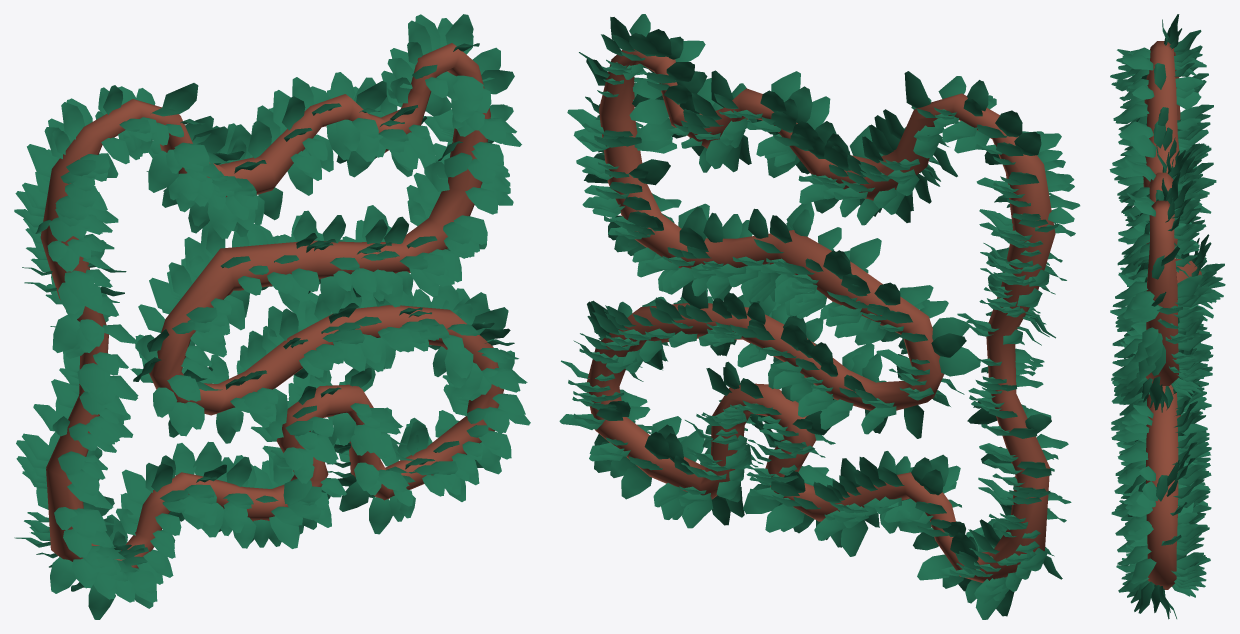
File: giantLiana.glb
3 views of the same model, side by side, from view 1: azimuth 30°, elevation 25°; view 2: azimuth 150°, elevation 25°; view 3: azimuth 270°, elevation 25° (orthographic). The views are drawn at different scales.
Parts seen in each view (by area): view 1: GiantRoot; view 2: GiantRoot; view 3: GiantRoot.
Part boxes in pixels (left/top/right/bottom): GiantRoot: left=14, top=14, right=530, bottom=619; GiantRoot: left=559, top=14, right=1080, bottom=619; GiantRoot: left=1109, top=14, right=1225, bottom=619.
Bounding box in the file's own units: 30.98 × 31.52 × 6.9.
1 material, 1 textured.
